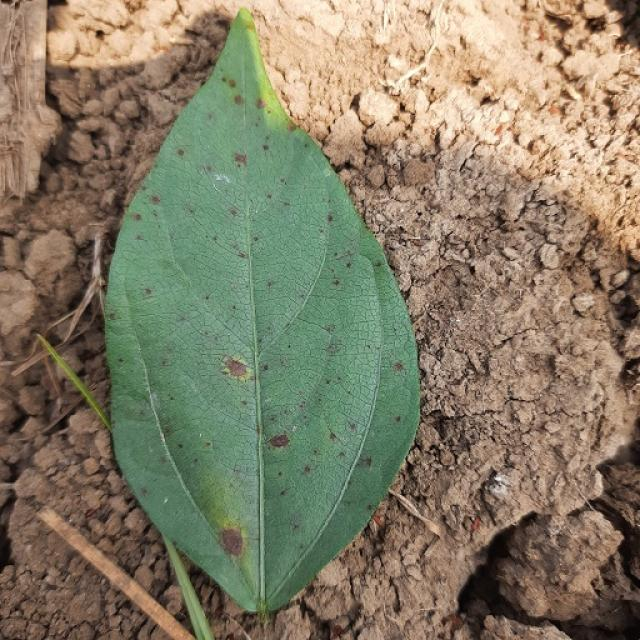Anthracnose: (220, 527, 244, 557), (224, 355, 252, 380), (268, 433, 290, 448), (326, 342, 342, 356), (233, 153, 247, 166), (244, 20, 257, 33), (360, 456, 372, 467), (256, 98, 266, 109), (234, 94, 244, 105), (393, 362, 404, 371), (150, 195, 160, 204), (286, 123, 296, 132), (143, 287, 152, 296), (176, 148, 185, 157), (303, 465, 312, 474), (227, 79, 236, 88), (329, 432, 337, 442), (133, 213, 142, 221), (140, 487, 148, 496), (230, 208, 238, 216), (262, 143, 270, 151), (332, 278, 340, 286), (267, 280, 275, 288), (108, 312, 116, 320), (349, 422, 356, 431), (203, 441, 212, 448), (373, 261, 382, 268), (238, 252, 246, 259), (327, 214, 334, 222), (394, 415, 401, 423), (345, 262, 352, 269), (279, 489, 286, 496), (204, 294, 210, 301)
Blackgram: (105, 12, 418, 611)
